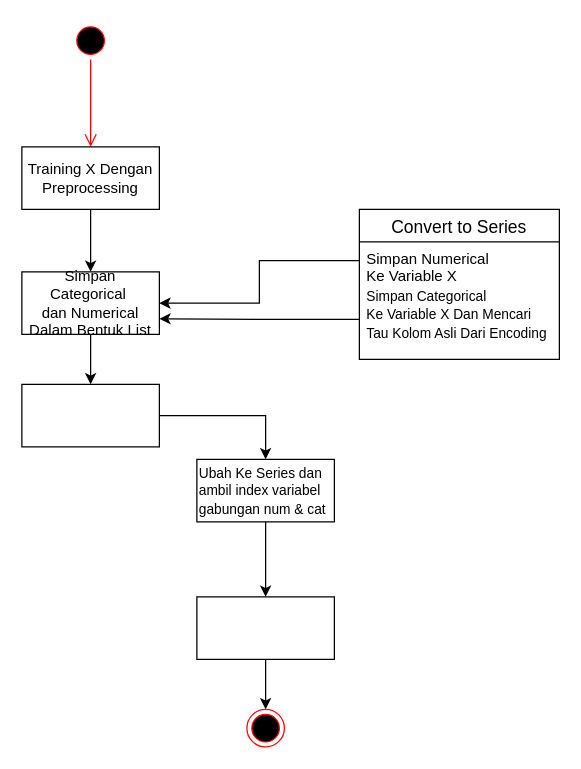
Image size: 581x769. Some labels were removed from this diagram. The shapes that lost their labels are listed below. From the top down, each one's centre as x and y in pixels, then its label:
(x=90, y=415): Mutual Information (TrainX & TrainY)
(x=265, y=627): Interpretasi Grafik (Opsional)
